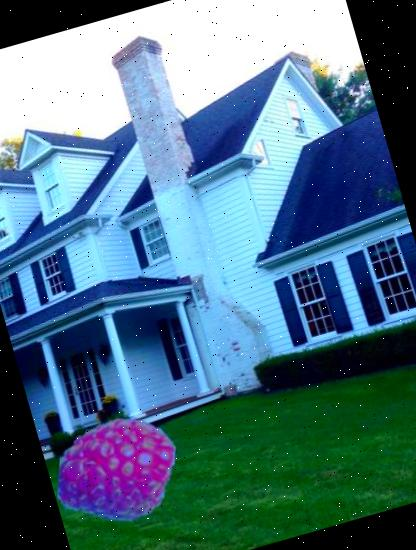Raspberry: (46, 398, 188, 540)
